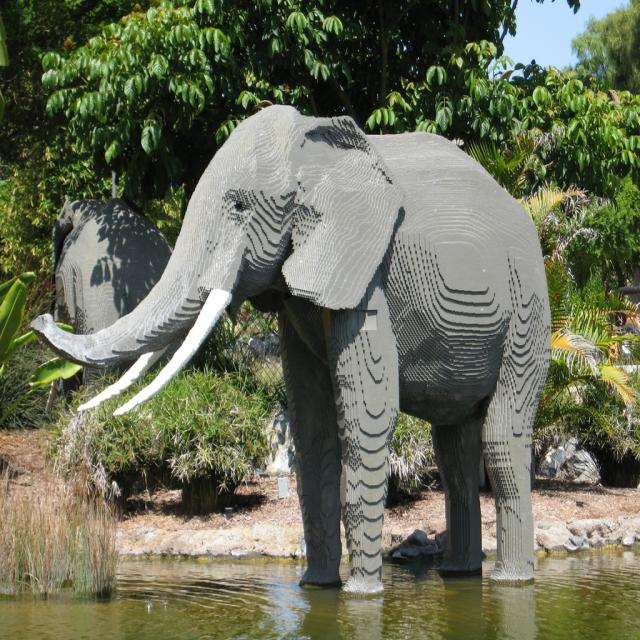Elephant: (40, 109, 551, 578)
